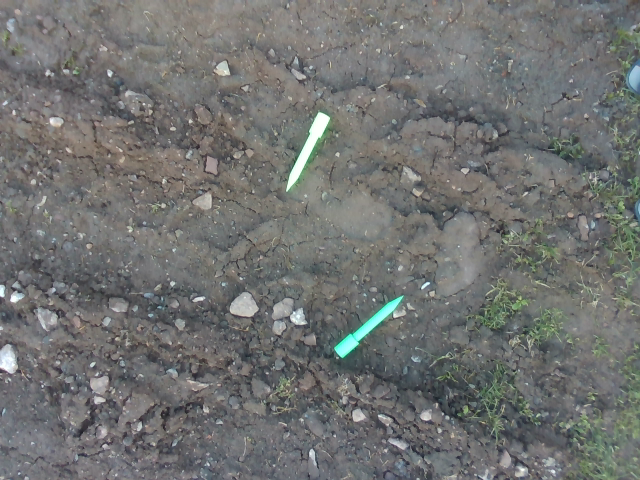Probe: (330, 289, 409, 365), (283, 105, 334, 198)
